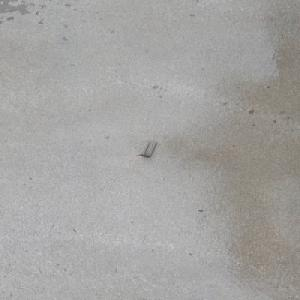MetalPart: (135, 140, 157, 158)
